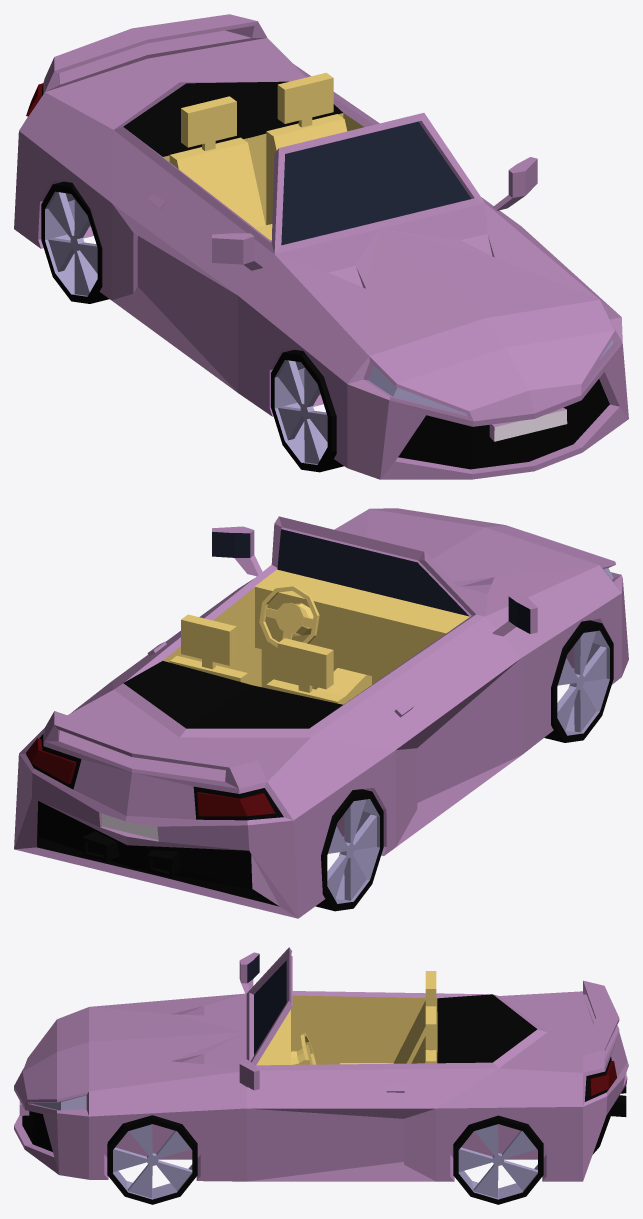
The model's file is roadstert.obj.
The picture shows the model from 3 angles, top to bottom: view 1: azimuth 30°, elevation 25°; view 2: azimuth 150°, elevation 25°; view 3: azimuth 270°, elevation 25°; orthographic projection. The views are drawn at different scales.
Parts seen in each view (by area): view 1: Roadster, Roadster_wheel_front_right, Roadster_wheel_rear_right; view 2: Roadster, Roadster_wheel_front_right, Roadster_wheel_rear_right; view 3: Roadster, Roadster_wheel_front_left, Roadster_wheel_rear_left.
Part boxes in pixels (x1,y1,x2,y2): Roadster: (14,14,628,479); Roadster_wheel_front_right: (271,349,343,472); Roadster_wheel_rear_right: (41,181,109,303); Roadster: (14,508,628,918); Roadster_wheel_front_right: (544,620,613,742); Roadster_wheel_rear_right: (315,789,383,911); Roadster: (14,947,628,1181); Roadster_wheel_front_left: (107,1115,197,1204); Roadster_wheel_rear_left: (453,1115,543,1204).
Size of the model in its own units: 2.63 by 1.84 by 5.73.
Materials: 9 (1 with a texture image).
